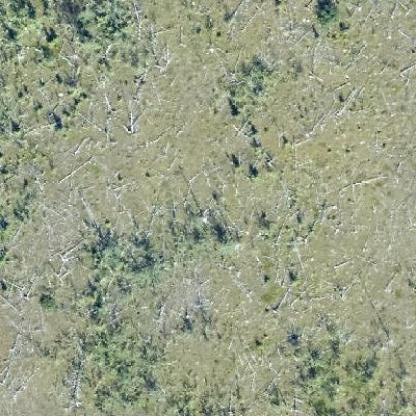tree-top: (68, 2, 94, 23), (211, 230, 234, 250), (141, 256, 162, 274), (39, 44, 57, 64), (245, 164, 260, 177)
